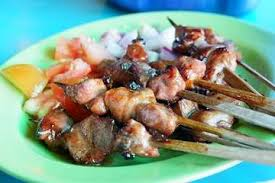sate: (18, 17, 257, 166)
